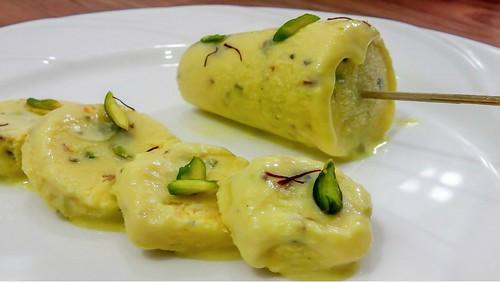Kulfi: (176, 17, 397, 160)
